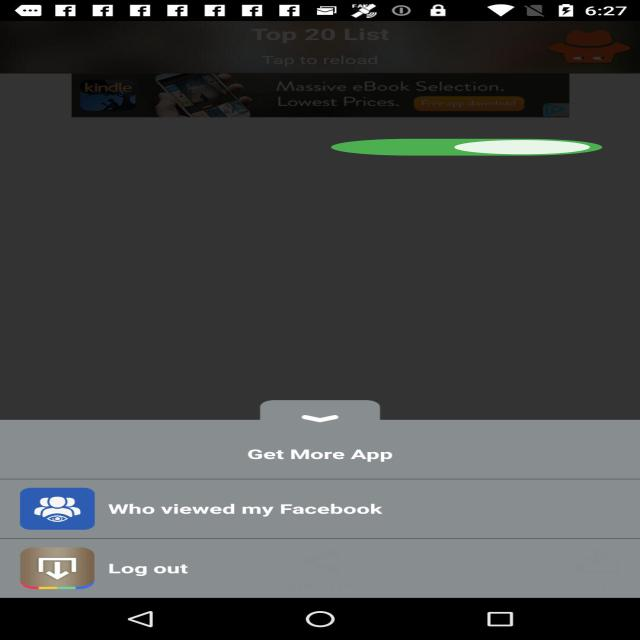social proof: (319, 132, 614, 164)
